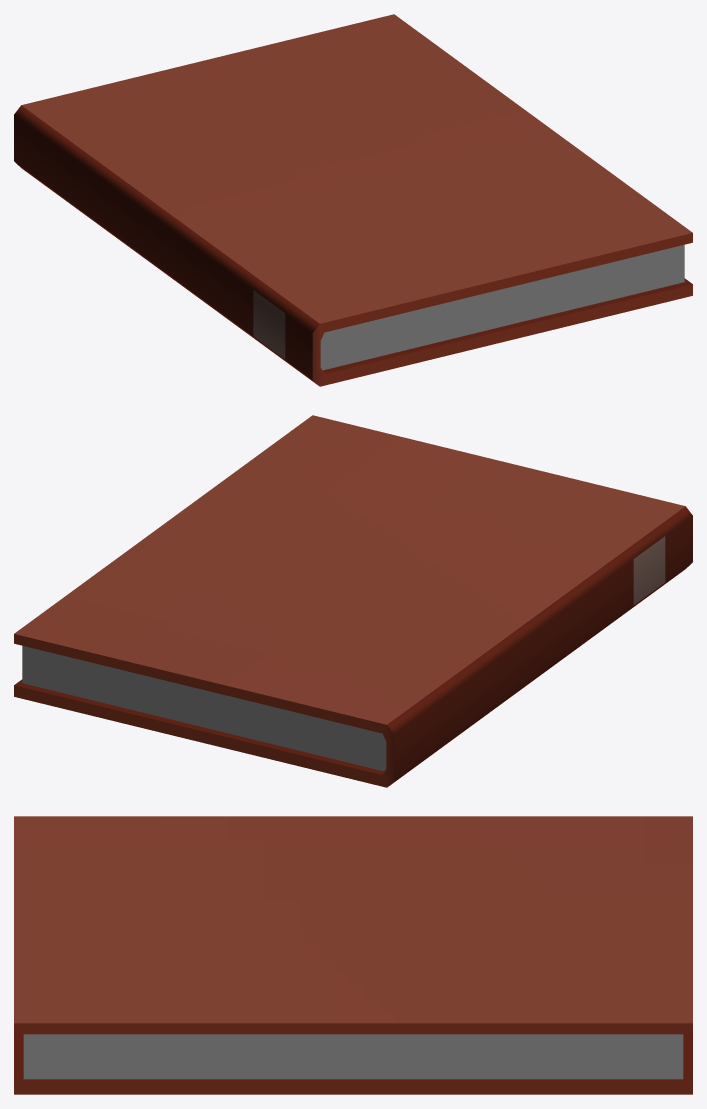
Rendered from human-household-items-book_v7.fbx.
3 views of the same model, one above another, from view 1: azimuth 30°, elevation 25°; view 2: azimuth 150°, elevation 25°; view 3: azimuth 270°, elevation 25° (orthographic). The views are drawn at different scales.
Parts seen in each view (by area): view 1: Book_v7; view 2: Book_v7; view 3: Book_v7.
Boxes of the visible parts, x1=… form: Book_v7: x1=14, y1=14, x2=692, y2=386; Book_v7: x1=14, y1=415, x2=692, y2=787; Book_v7: x1=14, y1=816, x2=692, y2=1094.
Size of the model in its own units: 0.1837 by 0.0291 by 0.25.
